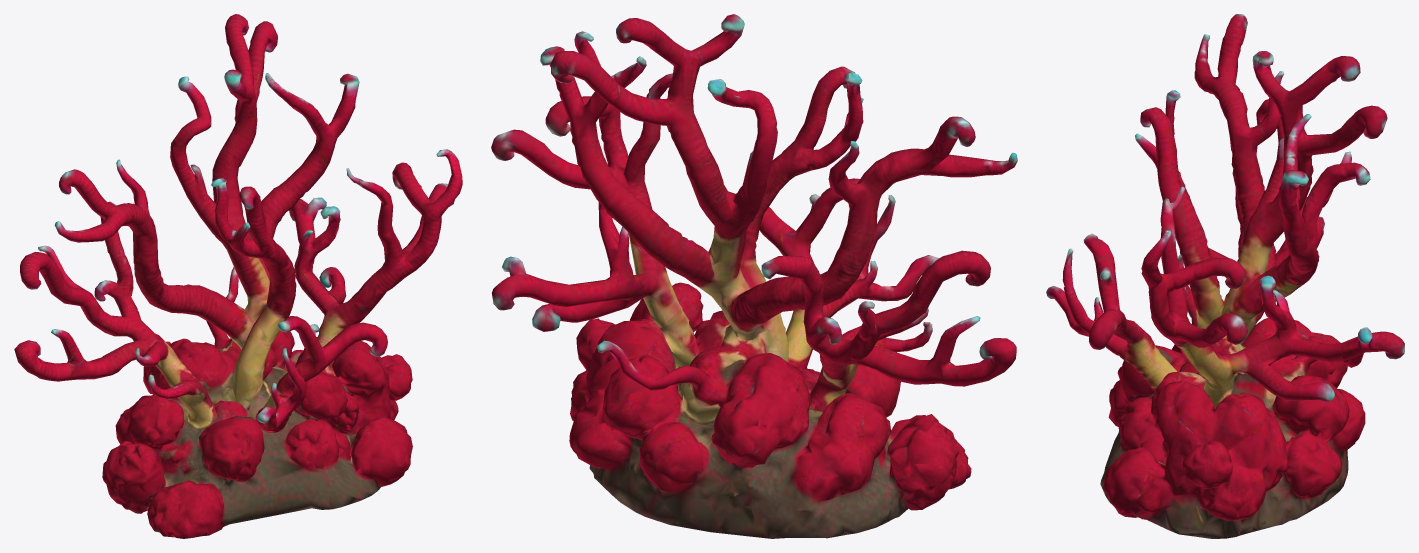
Rendered from plant-coral.glb.
3 views of the same model, side by side, from view 1: azimuth 30°, elevation 25°; view 2: azimuth 150°, elevation 25°; view 3: azimuth 270°, elevation 25° (orthographic). The views are drawn at different scales.
Size of the model in its own units: 1.9 by 1.7 by 1.28.
1 material, 1 textured.
